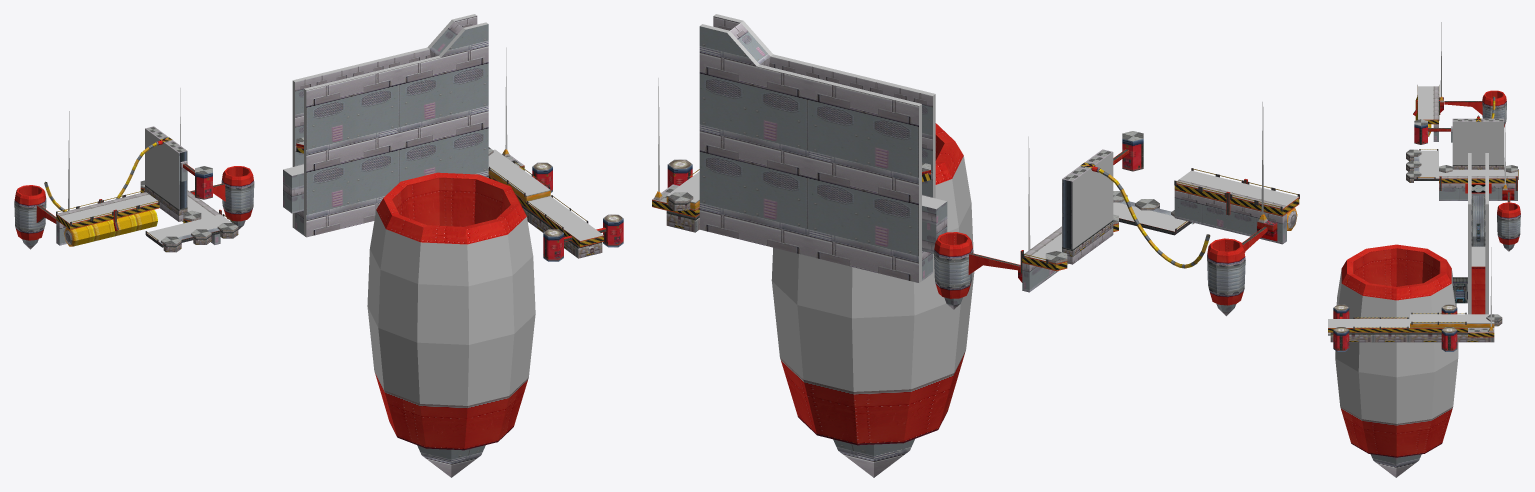
The model's file is 2PEgg_fleet4.obj.
3 renders of one model, left to right at view 1: azimuth 30°, elevation 25°; view 2: azimuth 150°, elevation 25°; view 3: azimuth 270°, elevation 25°, orthographic. The views are drawn at different scales.
Visible parts, largest first — view 1: obj2, obj3, Object_2; view 2: obj2, obj3, Object_2; view 3: obj2, obj3, Object_2.
Boxes of the visible parts, <box> form: obj2: <box>14,14,623,477</box>; obj3: <box>56,126,603,252</box>; Object_2: <box>151,216,227,239</box>; obj2: <box>654,14,1299,477</box>; obj3: <box>652,131,1298,271</box>; Object_2: <box>1113,203,1183,228</box>; obj2: <box>1328,22,1520,477</box>; obj3: <box>1328,86,1517,337</box>; Object_2: <box>1421,152,1436,177</box>.
Bounding box in the file's own units: 1686 × 1390 × 730.
